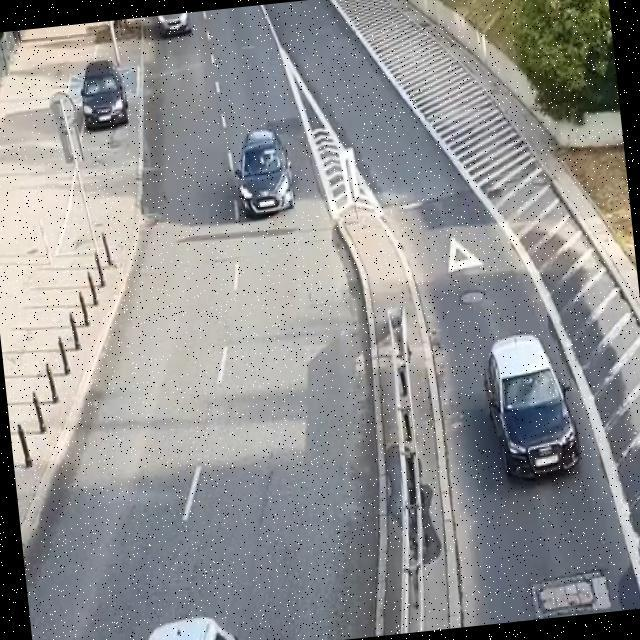car: (485, 335, 579, 478), (229, 130, 295, 214), (81, 61, 128, 129)
